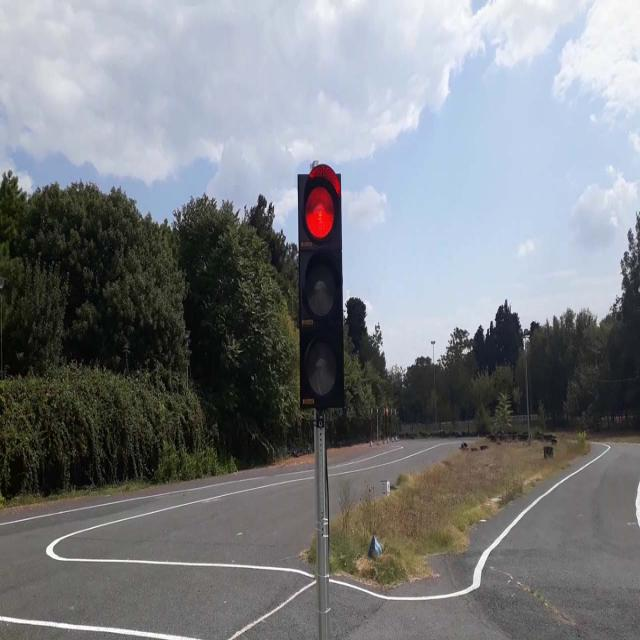kirmizi: (298, 172, 342, 404)
